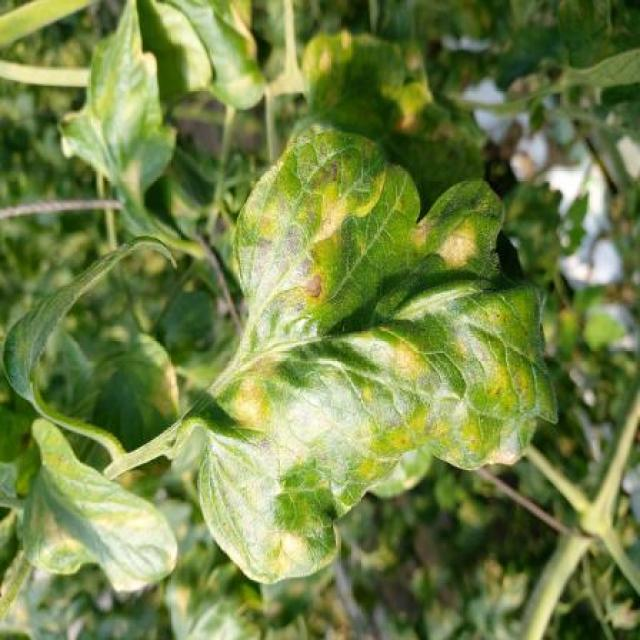Leaf Mold: (198, 132, 559, 584), (22, 414, 178, 596), (55, 0, 179, 197)
